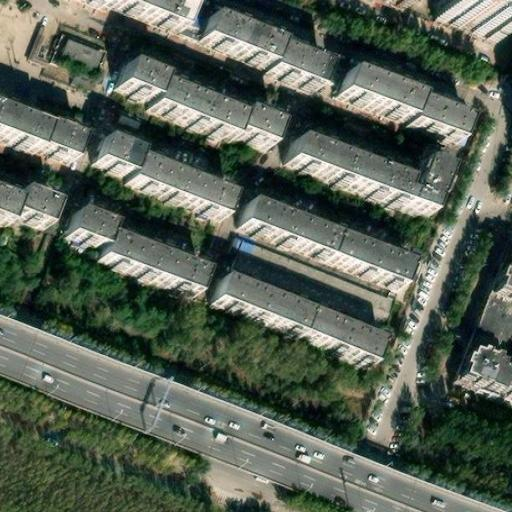building: (237, 197, 407, 284), (223, 240, 385, 331), (113, 60, 275, 138), (289, 142, 445, 211), (66, 212, 198, 292), (91, 137, 225, 213), (333, 69, 456, 141), (195, 19, 320, 89), (285, 309, 376, 362), (206, 277, 295, 329), (0, 116, 75, 158), (454, 348, 512, 396), (53, 34, 105, 75), (0, 190, 52, 226), (493, 255, 512, 303)
